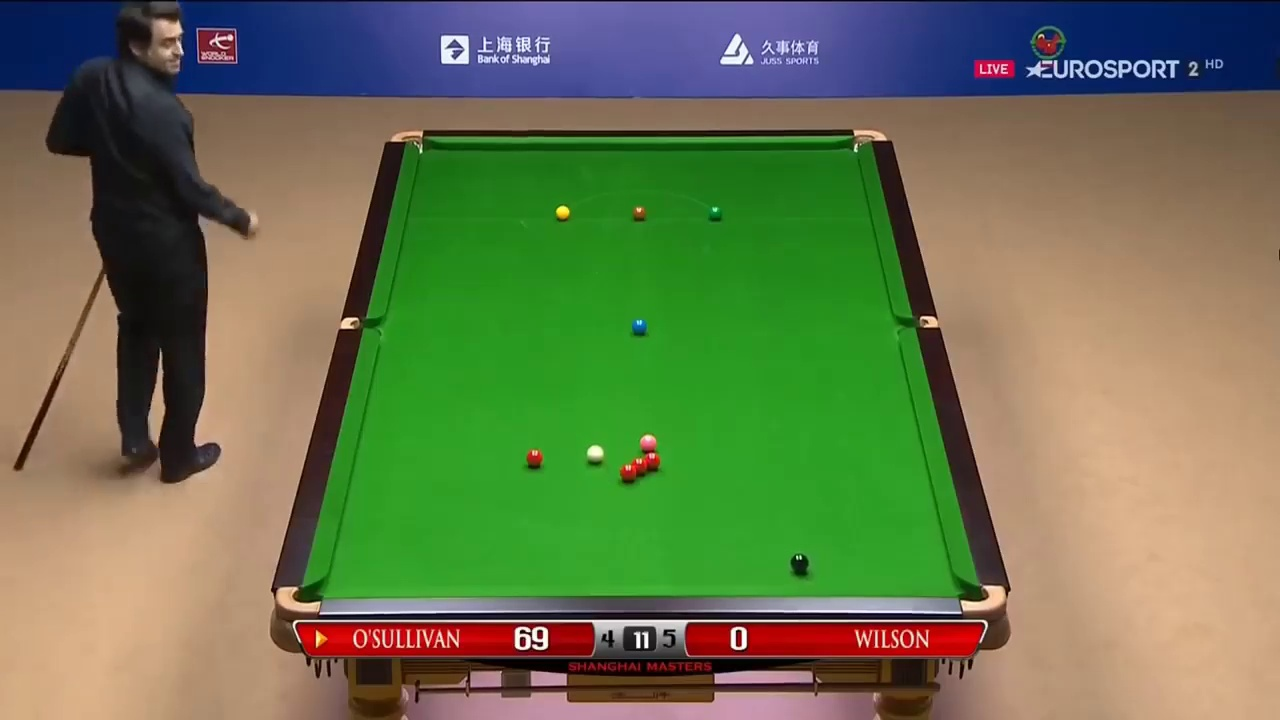ball: (586, 447, 603, 465), (790, 553, 808, 570), (551, 206, 569, 221), (526, 449, 541, 466), (707, 204, 722, 220), (631, 318, 645, 333), (633, 209, 645, 223)
